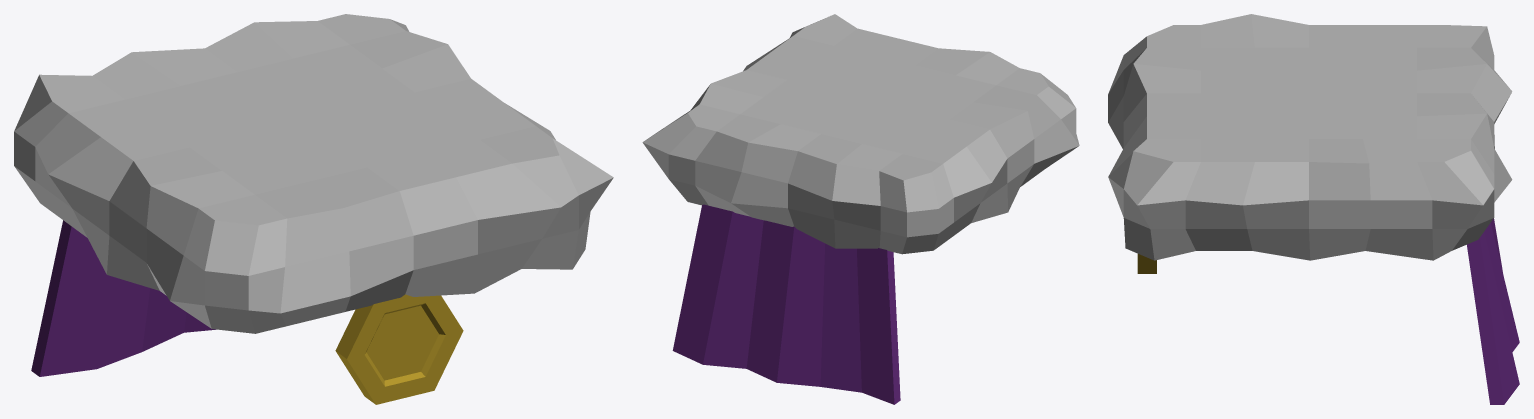
Rendered from playerCapePurple.fbx.
3 renders of one model, left to right at view 1: azimuth 30°, elevation 25°; view 2: azimuth 150°, elevation 25°; view 3: azimuth 270°, elevation 25°, orthographic. The views are drawn at different scales.
Visible parts, largest first — view 1: Player Cape - Purple; view 2: Player Cape - Purple; view 3: Player Cape - Purple.
Boxes of the visible parts, bbox=[...] form: Player Cape - Purple: bbox=[14, 14, 613, 404]; Player Cape - Purple: bbox=[642, 14, 1079, 404]; Player Cape - Purple: bbox=[1108, 14, 1519, 404].
Bounding box in the file's own units: 98.85 × 101 × 68.25.
